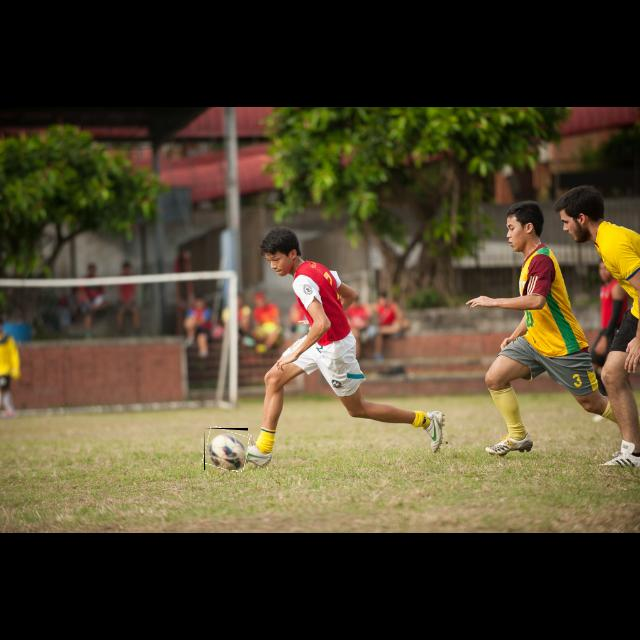Football: (204, 428, 248, 470)
